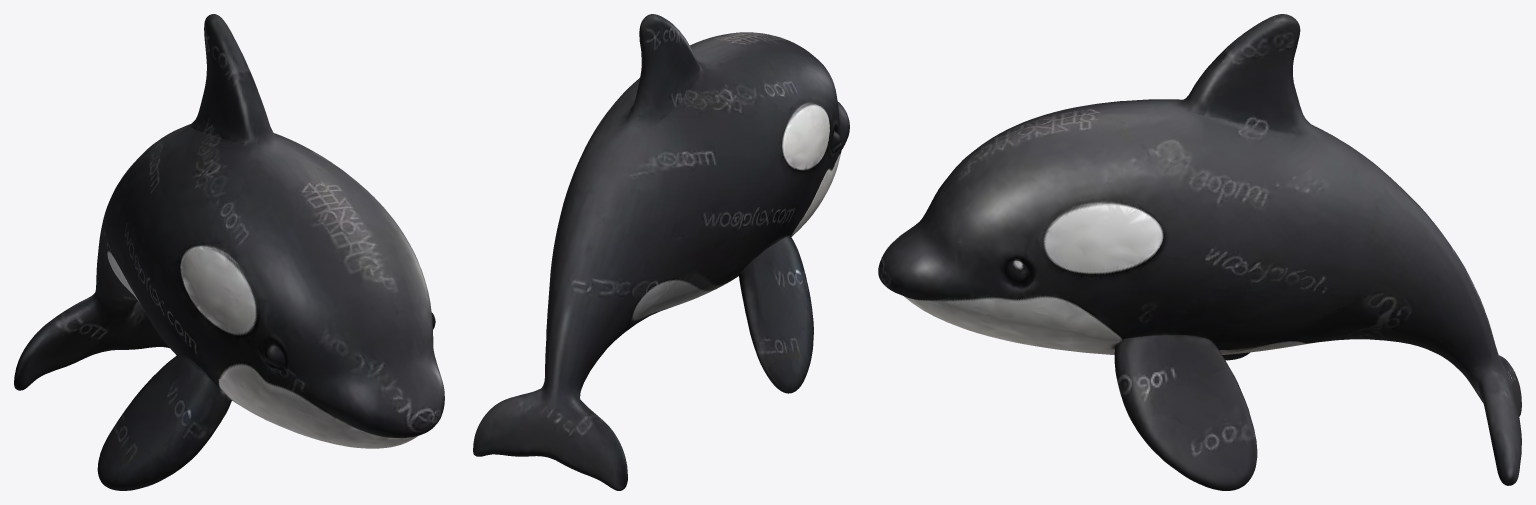
Rendered from orca_pbr.glb.
3 views of the same model, side by side, from view 1: azimuth 30°, elevation 25°; view 2: azimuth 150°, elevation 25°; view 3: azimuth 270°, elevation 25° (orthographic). The views are drawn at different scales.
Parts seen in each view (by area): view 1: model.008; view 2: model.008; view 3: model.008.
Part boxes in pixels (x1,y1,x2,y2): model.008: (14,14,444,490); model.008: (473,14,849,490); model.008: (878,14,1521,490).
Size of the model in its own units: 0.8978 by 1.34 by 1.81.
1 material, 1 textured.
